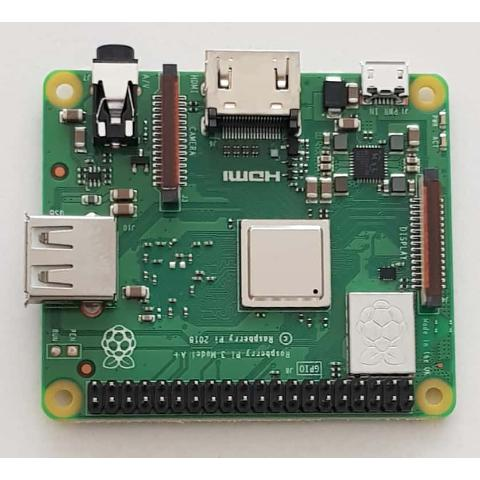Raspberry-Pi-3-Model-A-: (19, 38, 463, 430)
